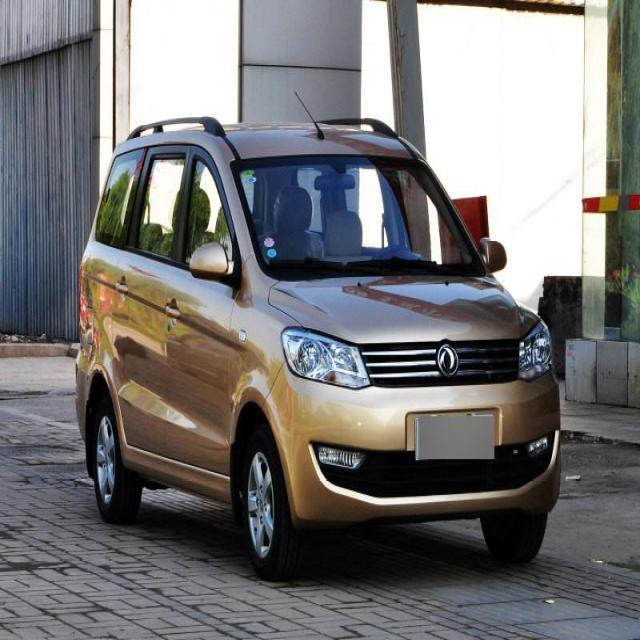door: (115, 148, 187, 472)
front_bumper: (263, 366, 563, 523)
front_glass: (228, 157, 480, 284)
front_left_side_light: (514, 320, 554, 381)
front_left_side_mirror: (479, 228, 509, 280)
front_right_side_door: (162, 134, 240, 490)
front_right_side_light: (282, 325, 372, 392)
front_right_side_mirror: (190, 233, 236, 288)
wheel: (242, 432, 288, 574), (92, 401, 134, 524)
